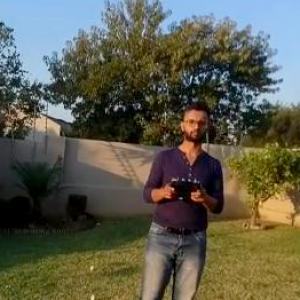follow: (128, 93, 228, 299)
